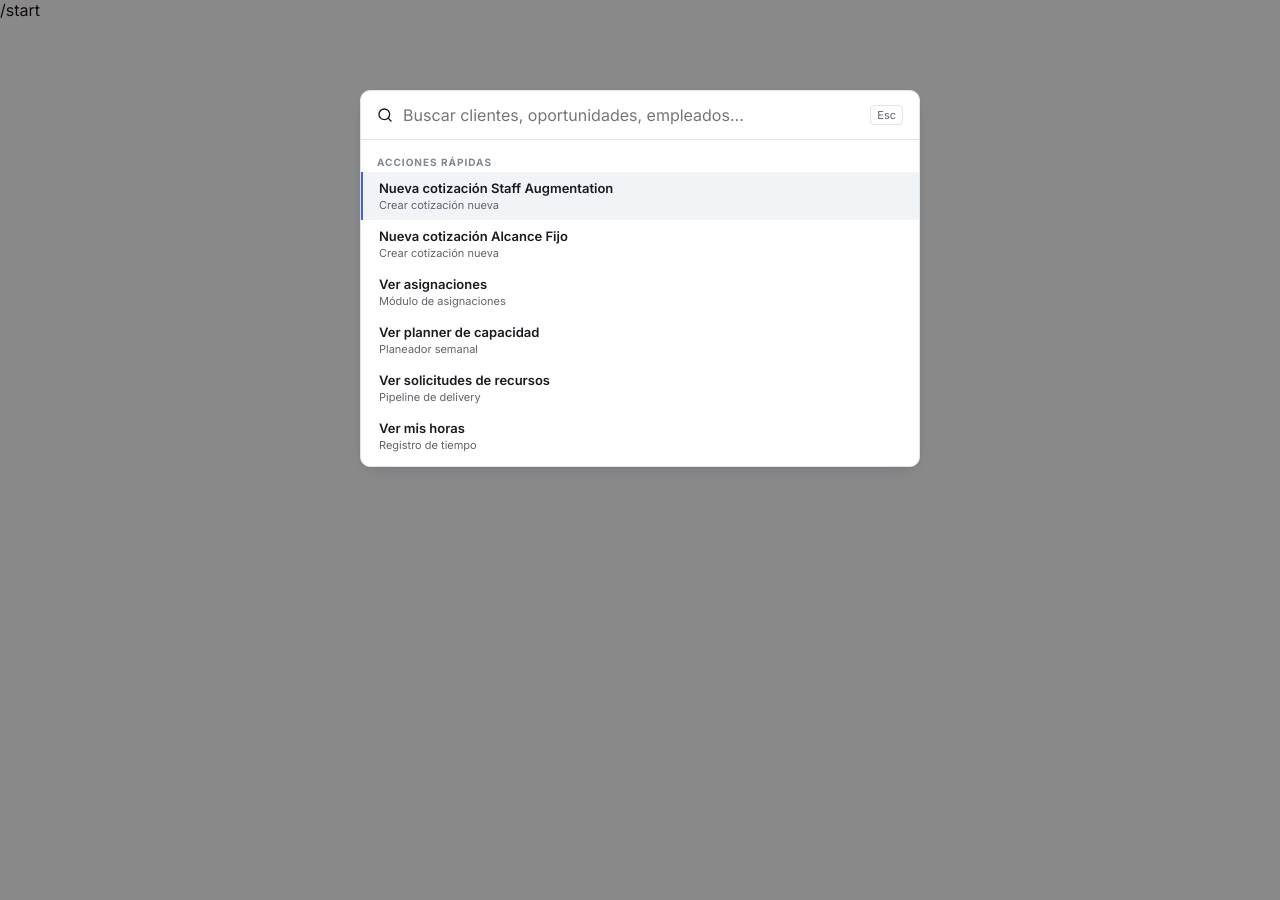
Scenario: CommandPalette › navigates on Enter using the keyboard cursor
Type "acme" into the search field with test id "cmdp-input".
click(632, 115); type("acme")  # box [403,105,860,125]
Wait 250 ms
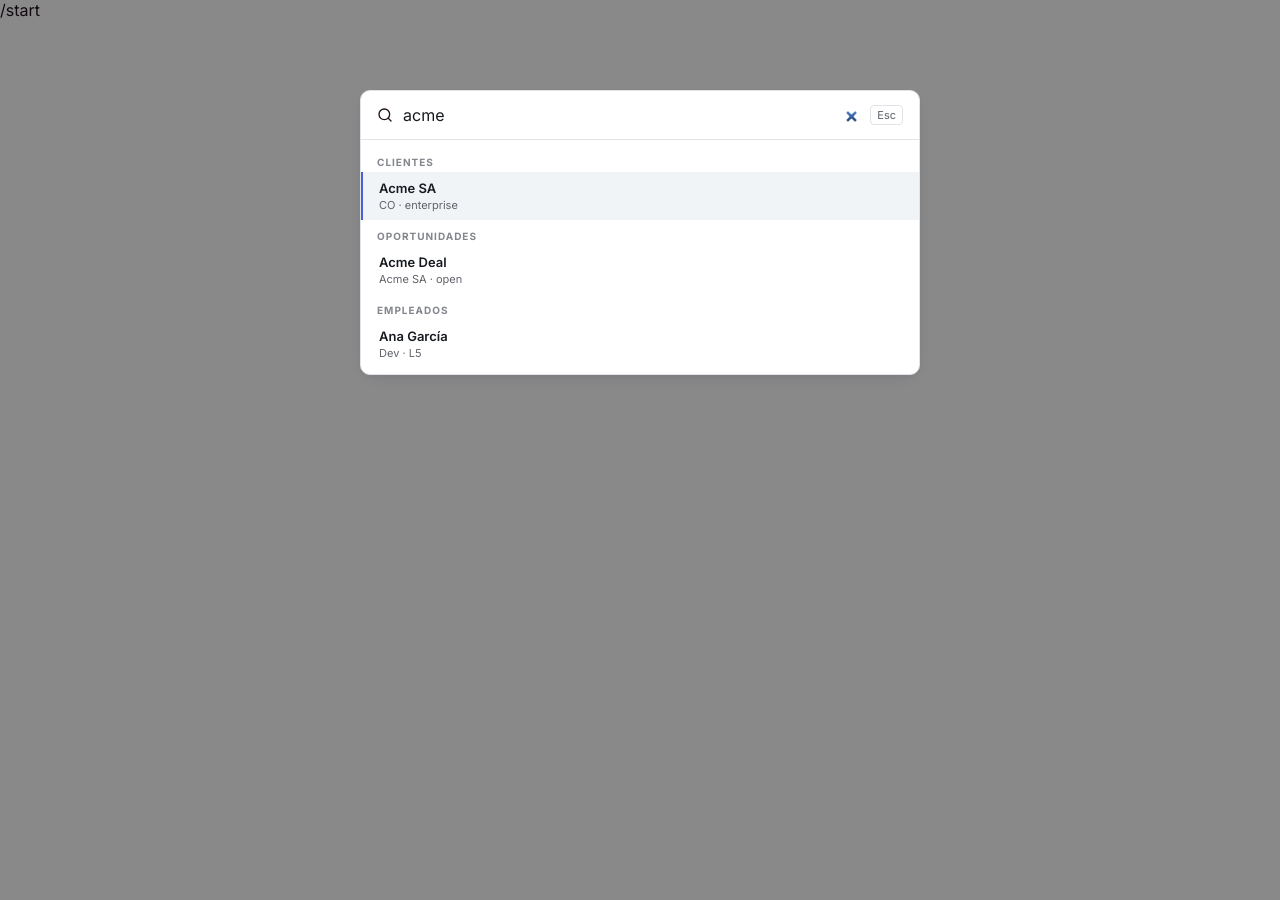
Result: the button with test id "cmdp-item-client-c1" is shown at [361,172,919,220]
Press ArrowDown in the search field with test id "cmdp-input", box [403,105,860,125]
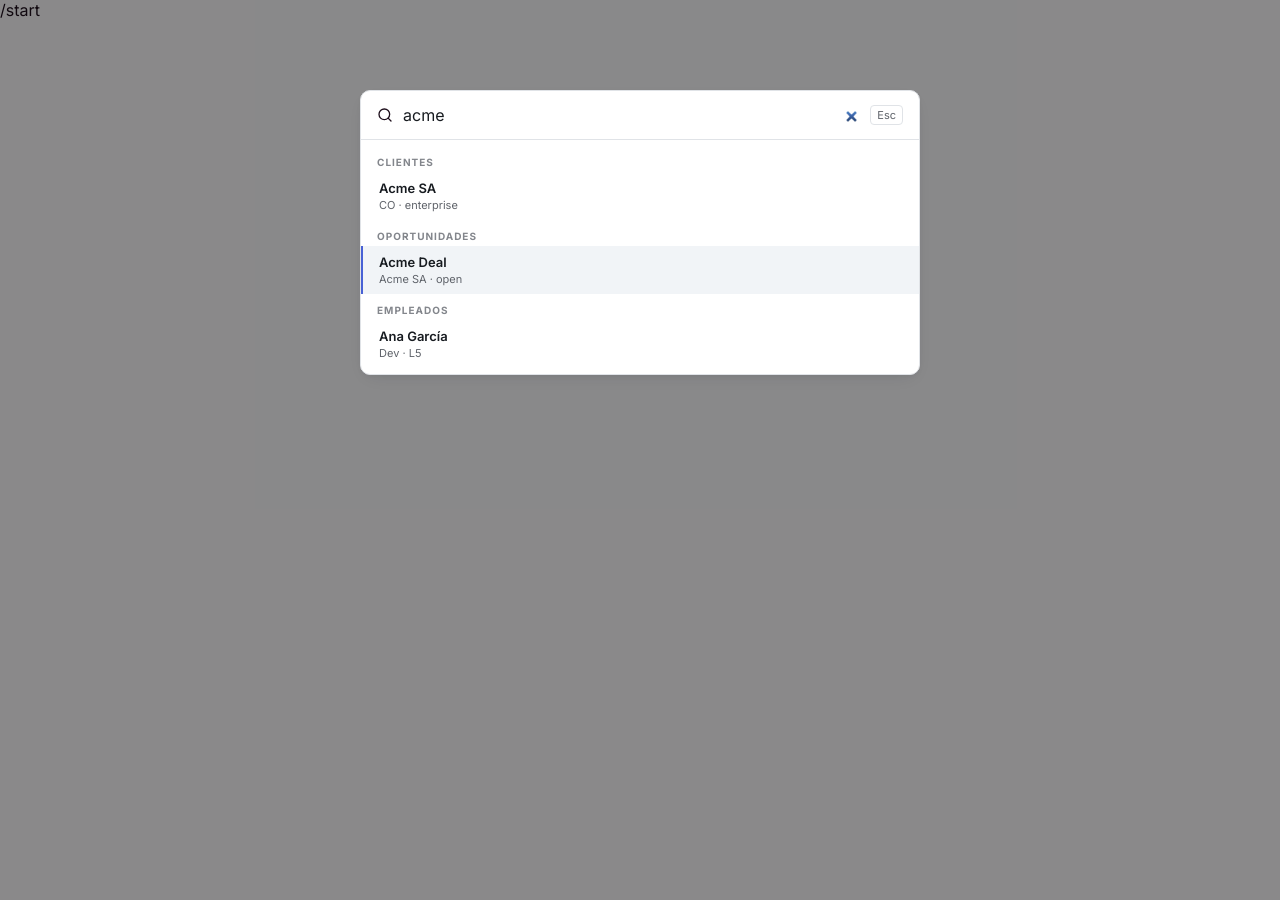
Press ArrowDown in the search field with test id "cmdp-input", box [403,105,860,125]
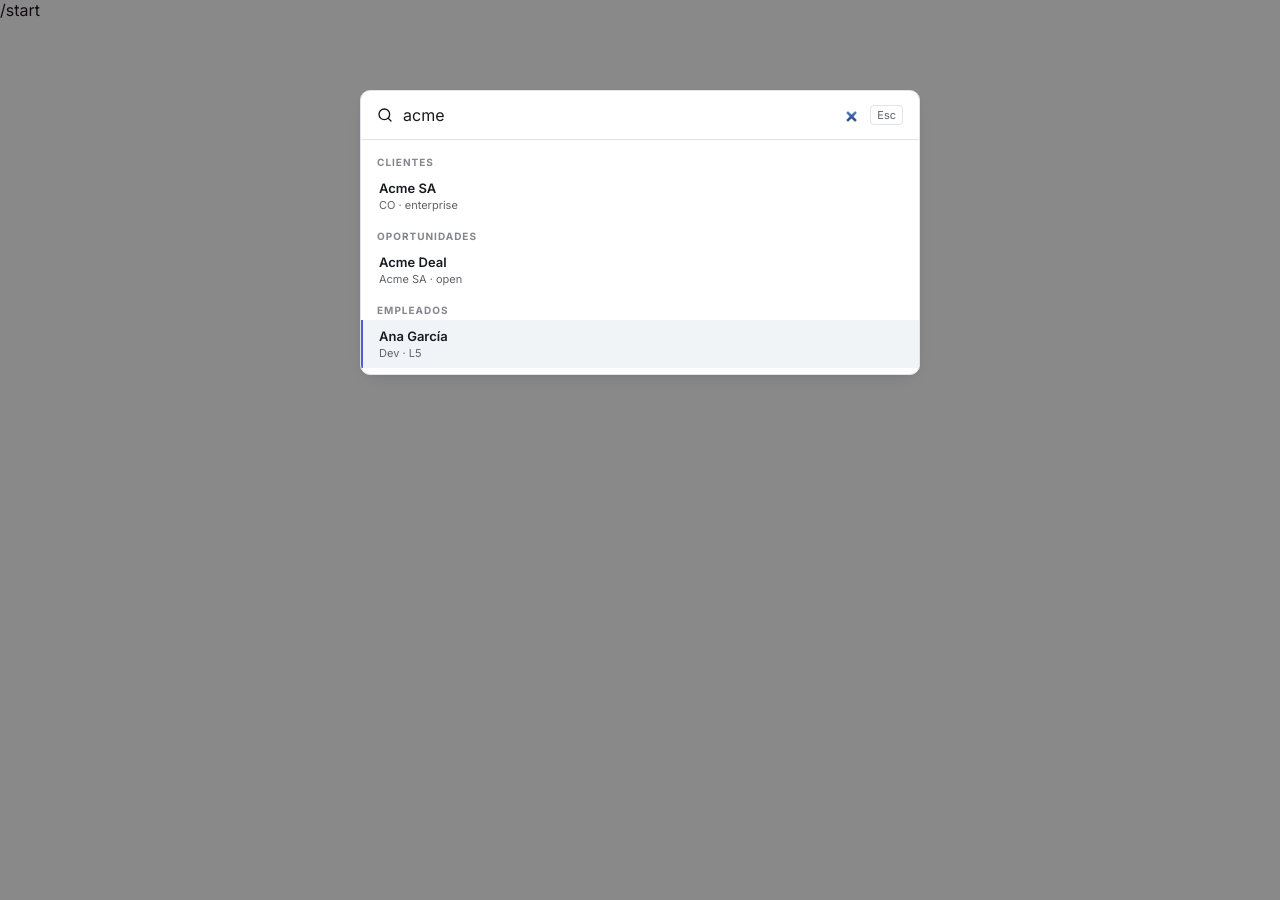
Press Enter in the search field with test id "cmdp-input", box [403,105,860,125]
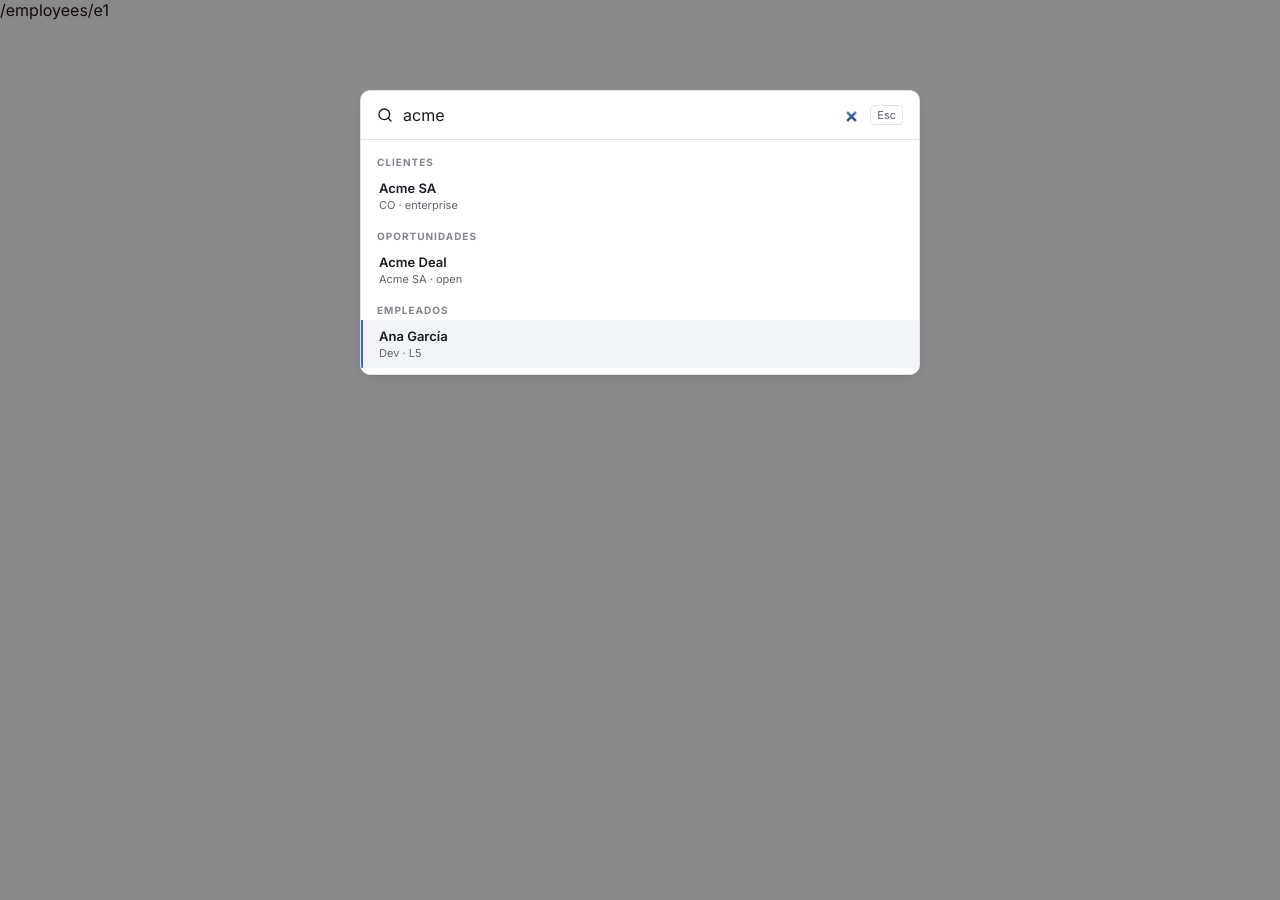
Result: the text with test id "probe-path" reads "/employees/e1" at [0,0,109,20]
